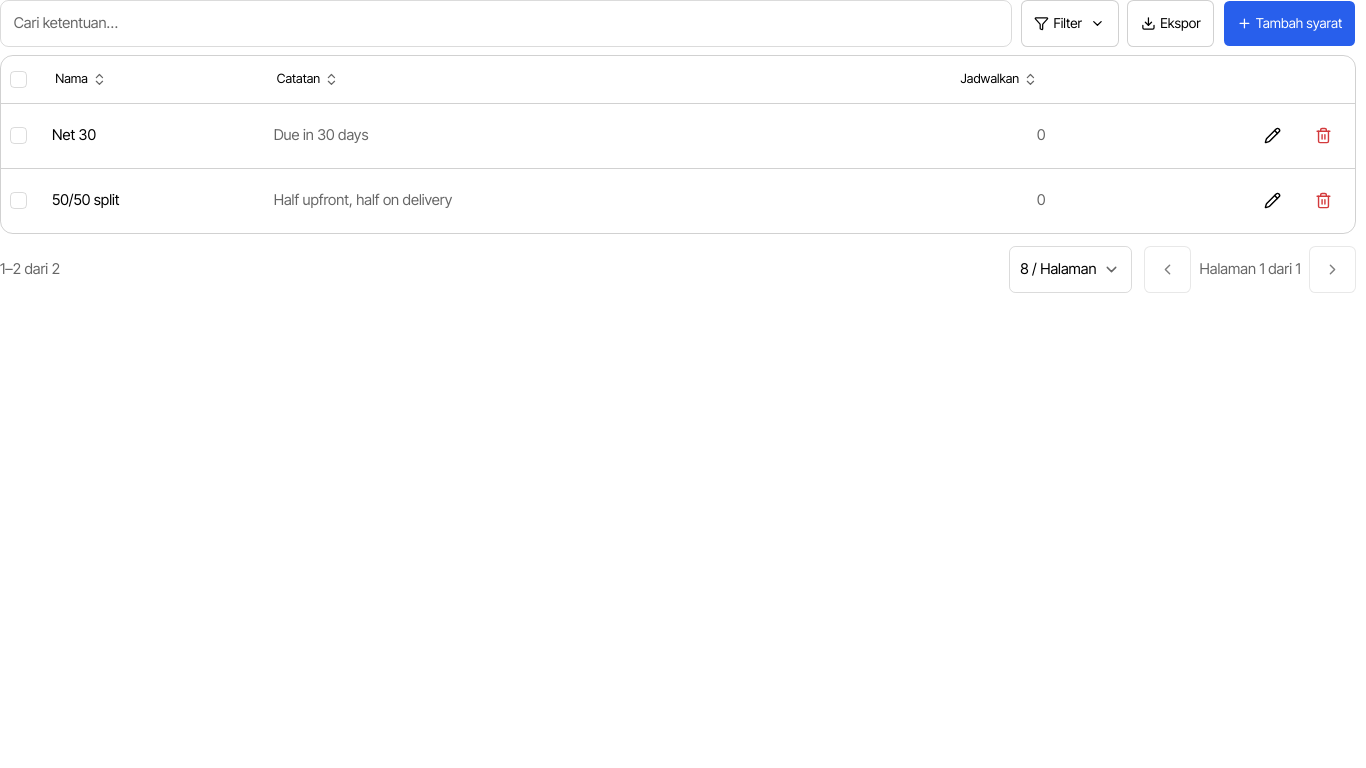
Test: PaymentTermsSection › requires a name when creating a term
Click the button "Tambah syarat" at (1289, 23), box [1223,0,1356,47]
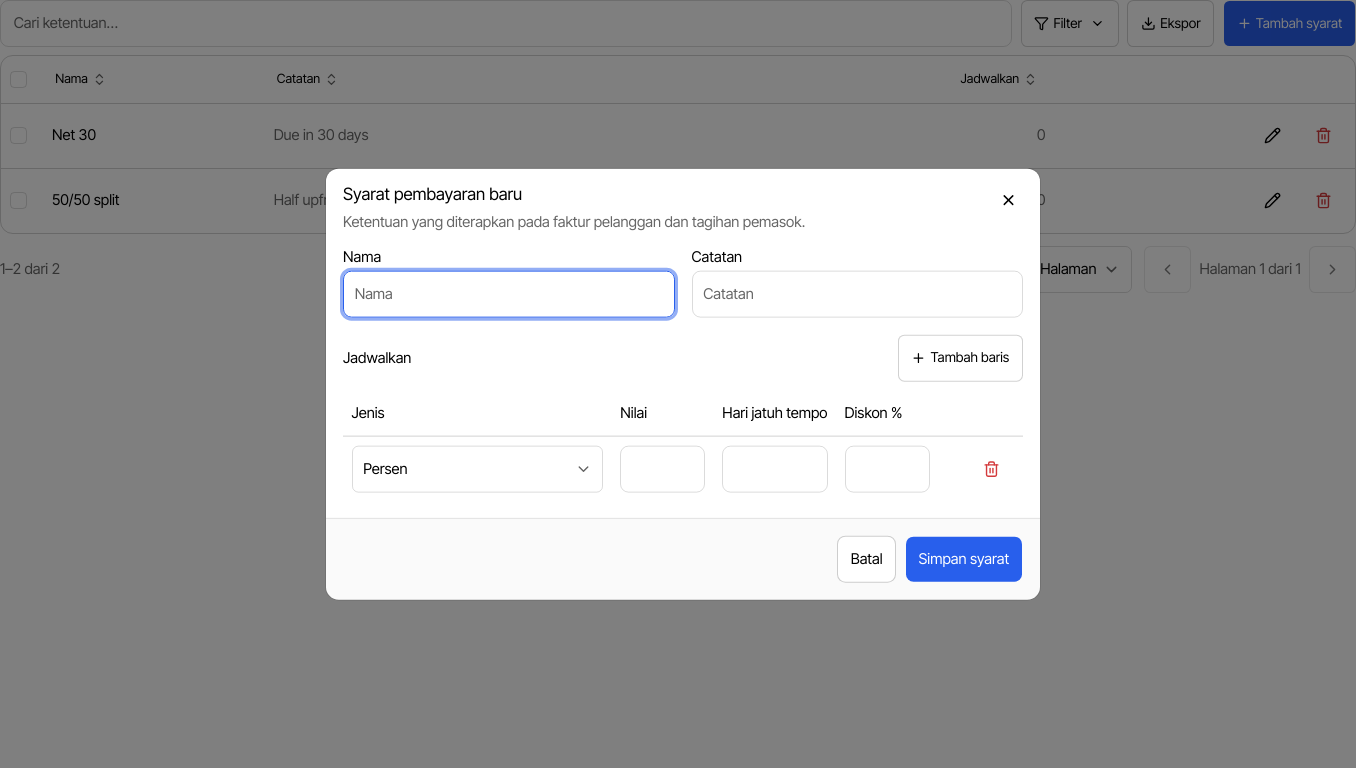
Click the button "Simpan syarat" at (964, 559), box [905,536,1023,582]
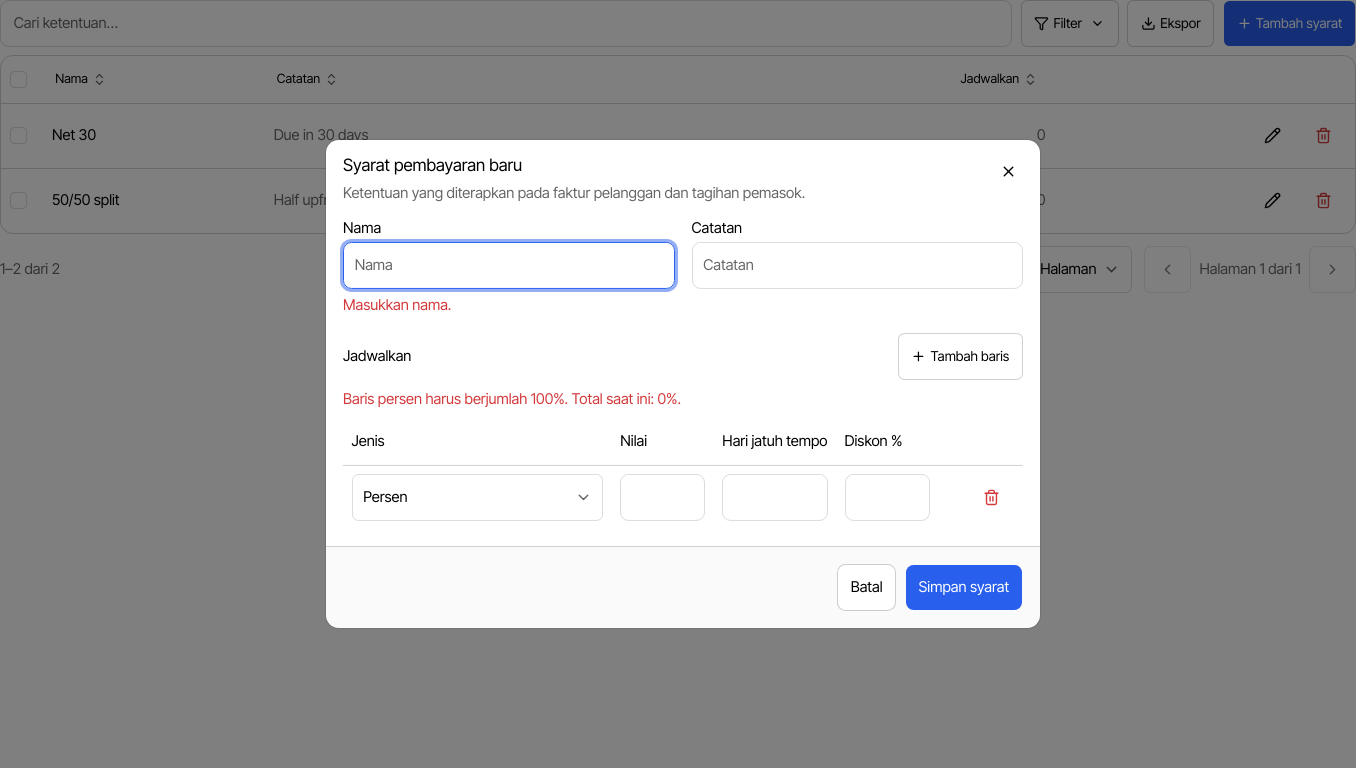
Check: the text "Masukkan nama." is shown, box [343,296,451,314]
